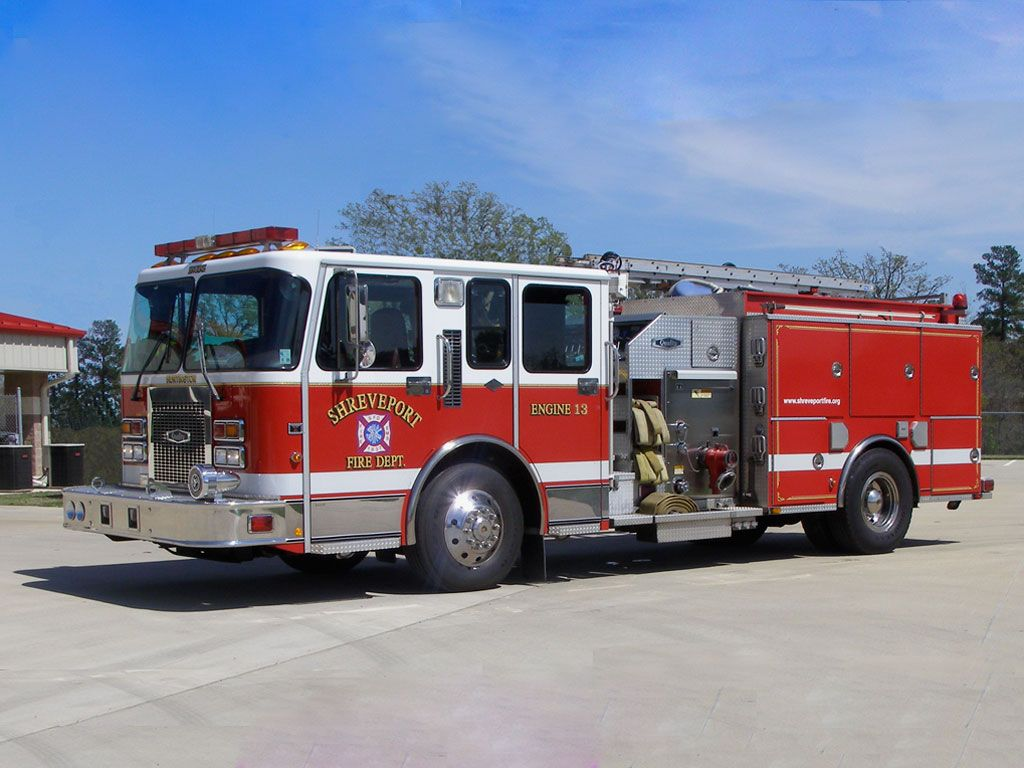special: (59, 225, 996, 588)
